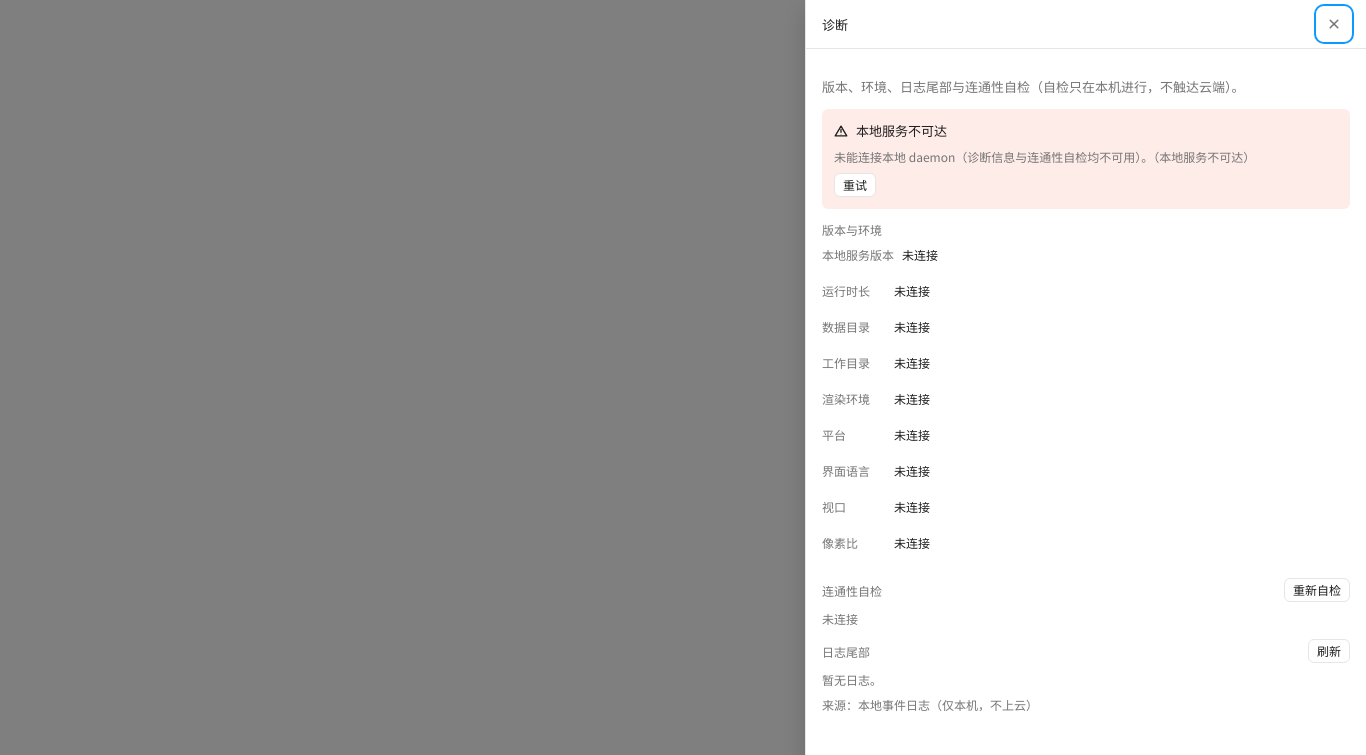
Scenario: 诊断面板（F8） › daemon 不可达 → 错误横幅 + 环境行「未连接」，点重试恢复后正常渲染（F14 错误态族）
Expected: the text "本地服务不可达" is shown, top-left (834, 121), bottom-right (947, 140)
Expected: the text "未能连接本地 daemon（诊断信息与连通性自检均不可用）。（本地服务不可达）" is shown, top-left (834, 148), bottom-right (1255, 165)
Click the button "重试": point(855, 185) top-left (834, 173), bottom-right (876, 197)
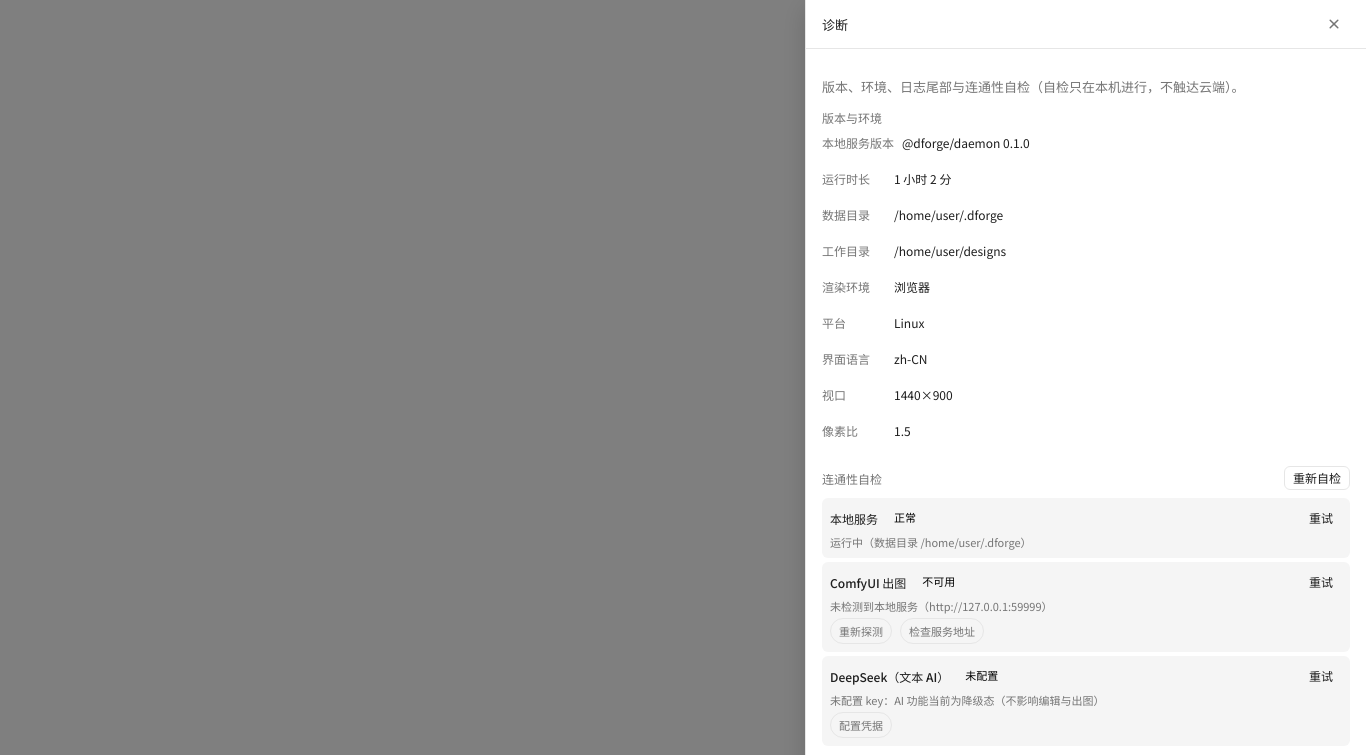
Now the text "@dforge/daemon 0.1.0" is shown, box top-left (902, 134), bottom-right (1030, 151)
Now the text "本地服务不可达" is gone
